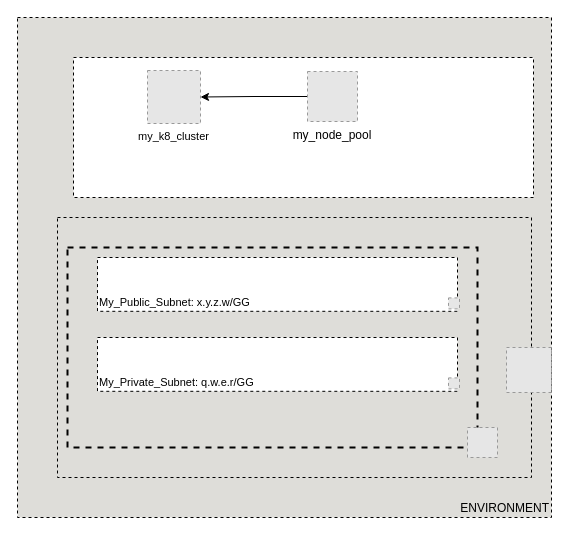
This 569x535 diagram has some shape labels left out. Grey dashed boxes stand in for pictures. The shapes that lost their labels are listed below. From the top down, each one's box as (x1, y1, x2, y2) in pixels, then its label:
(72, 56, 534, 198): MY_ARTIFACT_COMPARTMENT
(66, 246, 478, 448): MY_VCN a.b.c.d/HH
(56, 216, 532, 478): MY_NETWORK_COMPARTMENT
